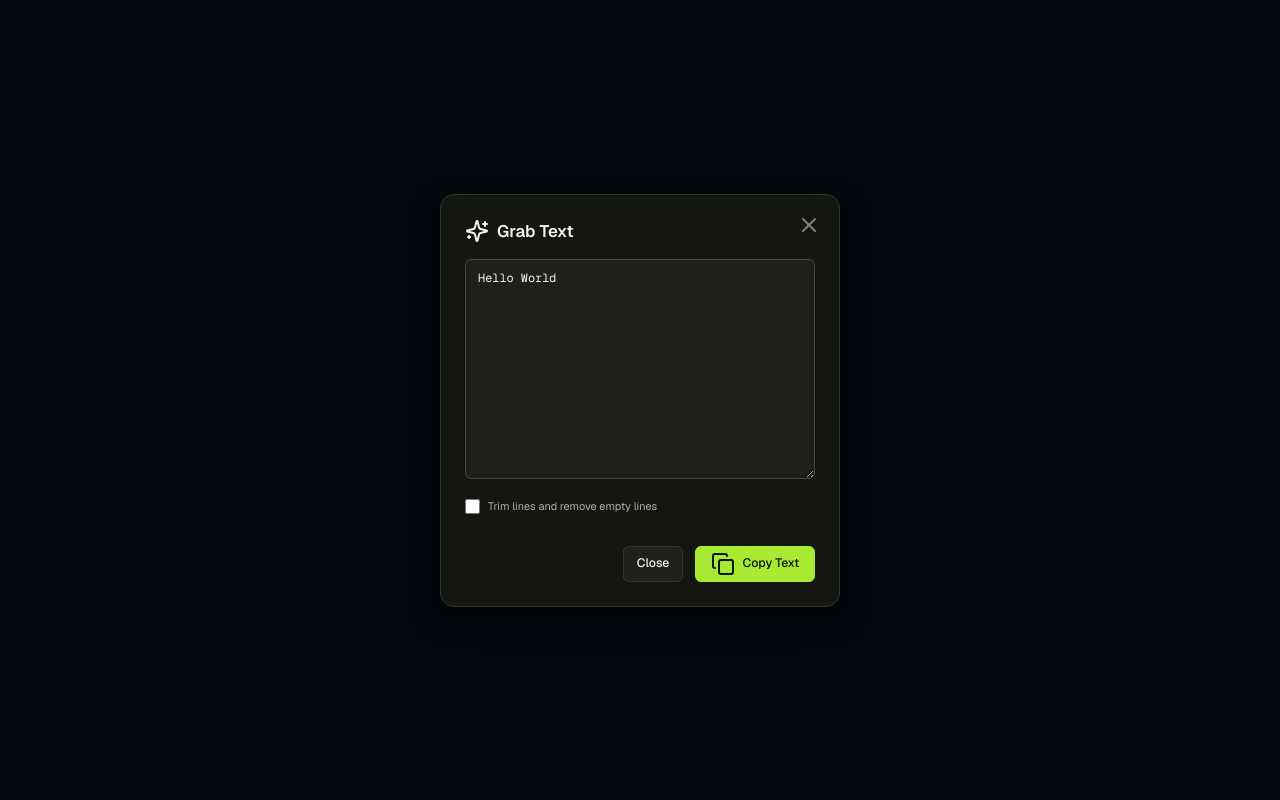
Scenario: GrabTextModal › copies extracted text via snapFrameAPI.copyTextToClipboard
Expected: the text "Copy Text" is shown, top-left (743, 556), bottom-right (799, 571)
Click the button "Copy Text" at (755, 564), box top-left (695, 546), bottom-right (815, 582)
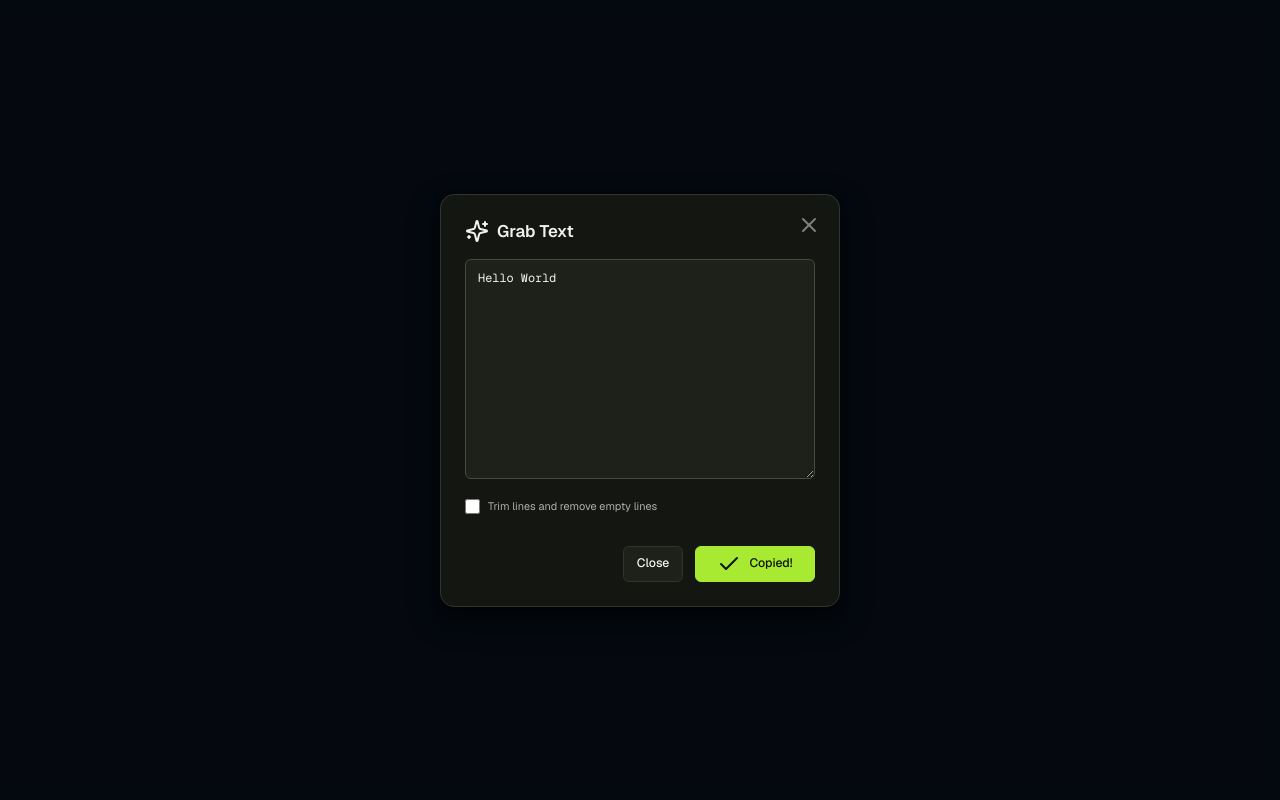
Expected: the text "Copied!" is shown, top-left (749, 556), bottom-right (793, 571)
